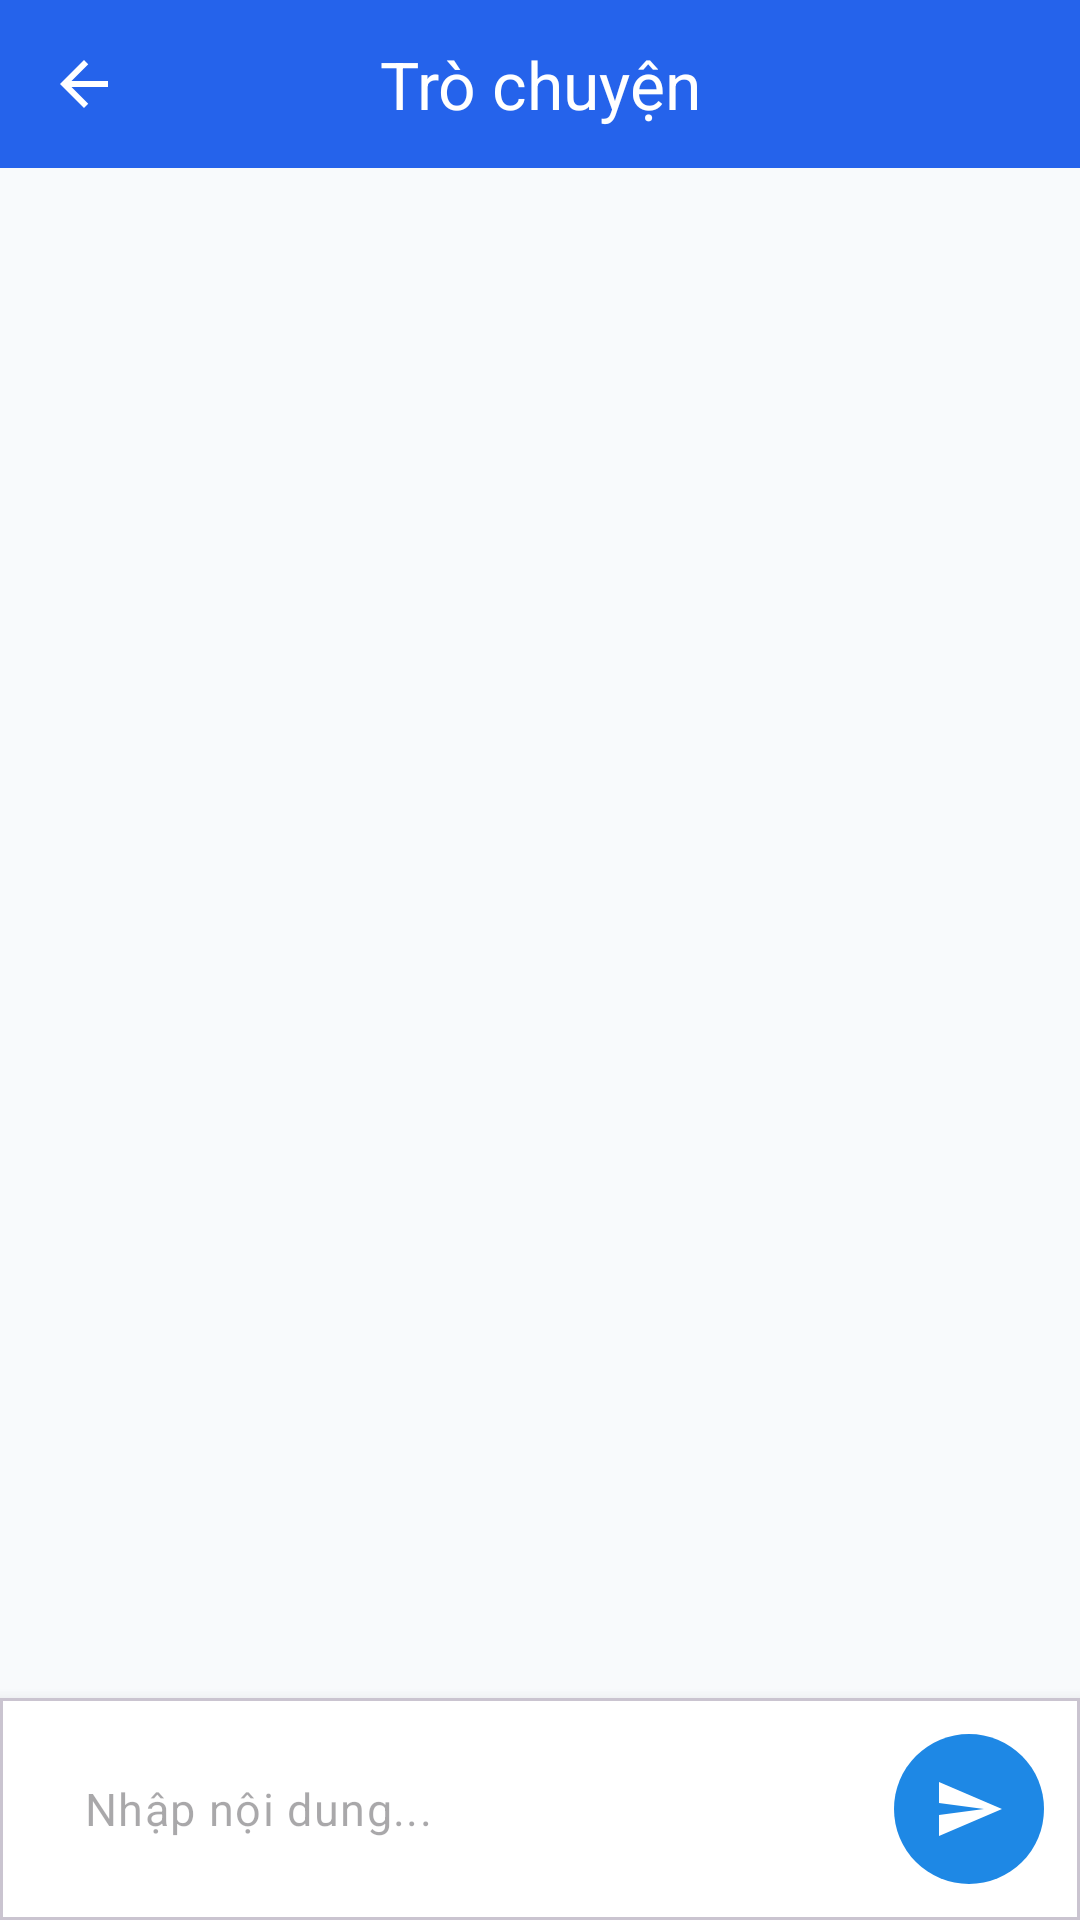

Icons on this 1080*1920 Android screen, each with its box as (x1,y1,x2,y2):
send: (894,1734,1044,1884)
